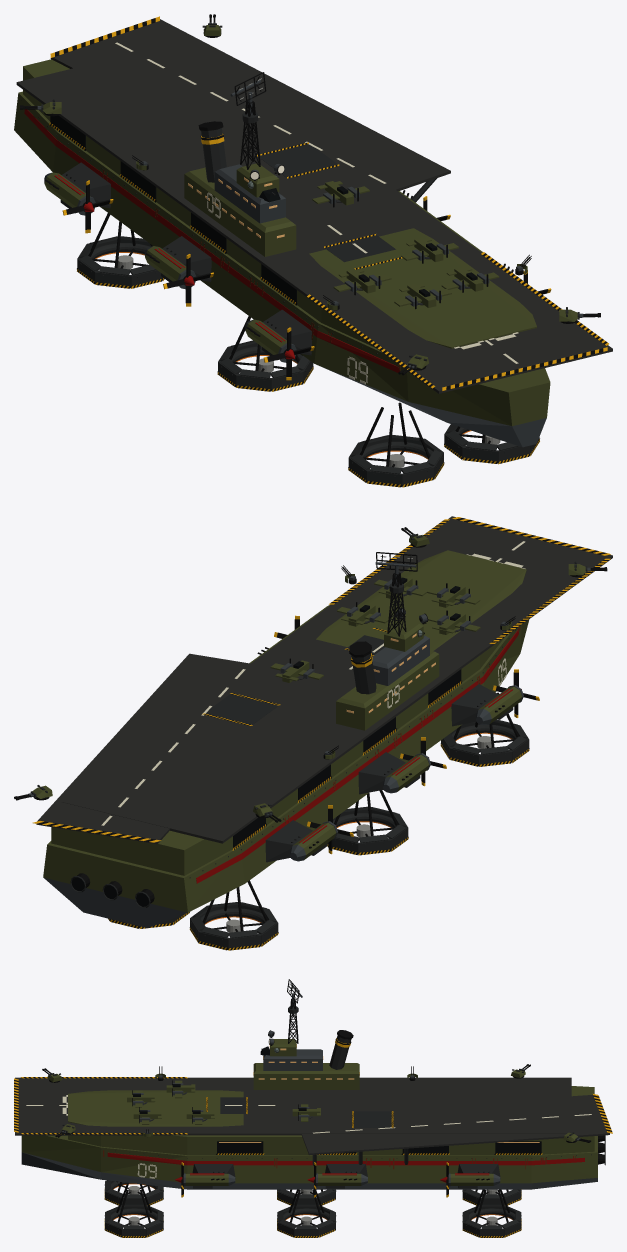
Rendered from carrier.obj.
3 renders of one model, top to bottom at view 1: azimuth 30°, elevation 25°; view 2: azimuth 150°, elevation 25°; view 3: azimuth 270°, elevation 25°, orthographic. The views are drawn at different scales.
Parts seen in each view (by area): view 1: carrier; view 2: carrier; view 3: carrier.
Part boxes in pixels (x1,y1,x2,y2): carrier: (14,14,612,487); carrier: (14,516,612,950); carrier: (14,979,612,1237).
Size of the model in its own units: 400 by 408 by 1100.
1 material, 1 textured.
